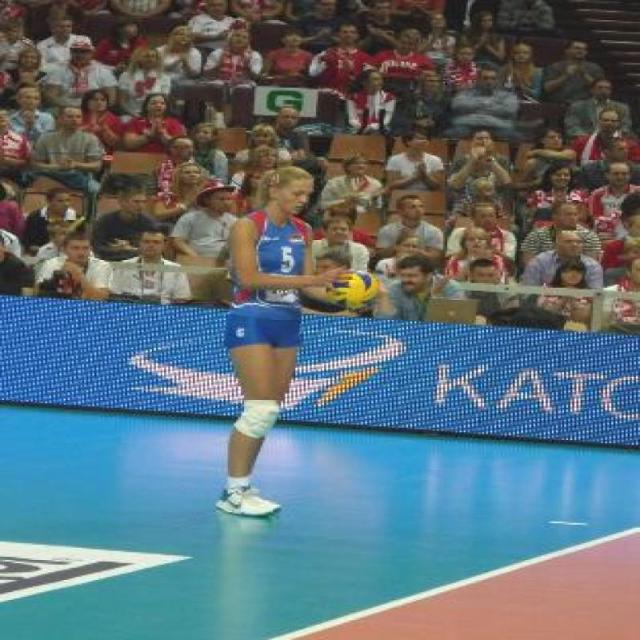volleyball: (324, 268, 382, 308)
